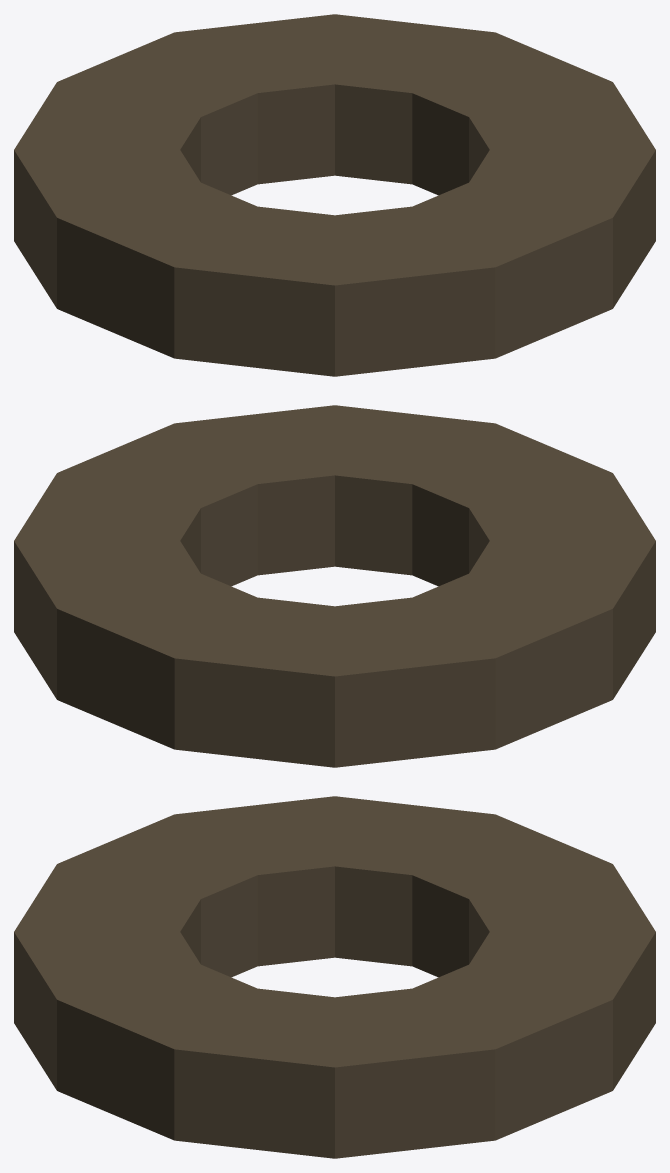
File: ITMI_PORTALRING_01.OBJ
The picture shows the model from 3 angles, top to bottom: view 1: azimuth 30°, elevation 25°; view 2: azimuth 150°, elevation 25°; view 3: azimuth 270°, elevation 25°; orthographic projection.
Parts seen in each view (by area): view 1: ITMI_PORTALRING_01; view 2: ITMI_PORTALRING_01; view 3: ITMI_PORTALRING_01.
Part boxes in pixels (left/top/right/bottom): ITMI_PORTALRING_01: left=14, top=14, right=655, bottom=376; ITMI_PORTALRING_01: left=14, top=405, right=655, bottom=767; ITMI_PORTALRING_01: left=14, top=796, right=655, bottom=1158.
Bounding box in the file's own units: 0.2 × 0.0314 × 0.2.
